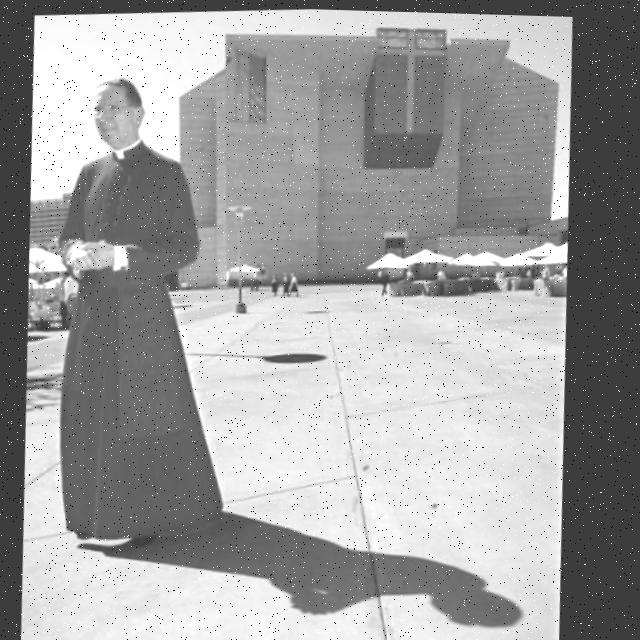face: (84, 77, 144, 144)
